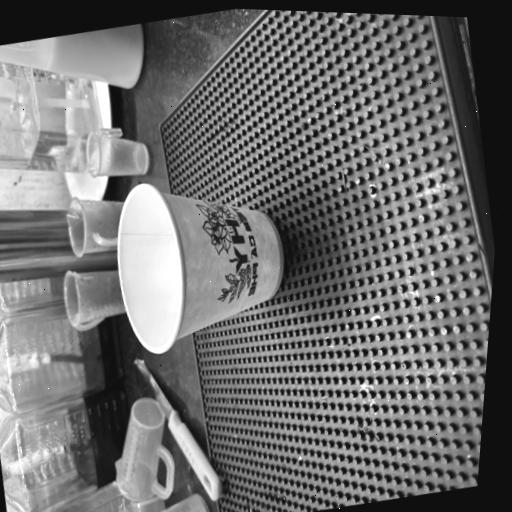Ly_giay: (118, 183, 283, 352)
